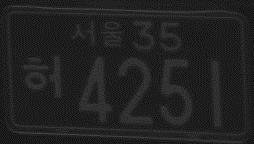1: (205, 57, 228, 132)
2: (117, 55, 153, 128)
3: (130, 18, 156, 54)
4: (76, 54, 114, 125)
5: (156, 57, 195, 127), (158, 19, 183, 54)
서울_O: (70, 18, 125, 50)
허: (22, 52, 64, 102)
